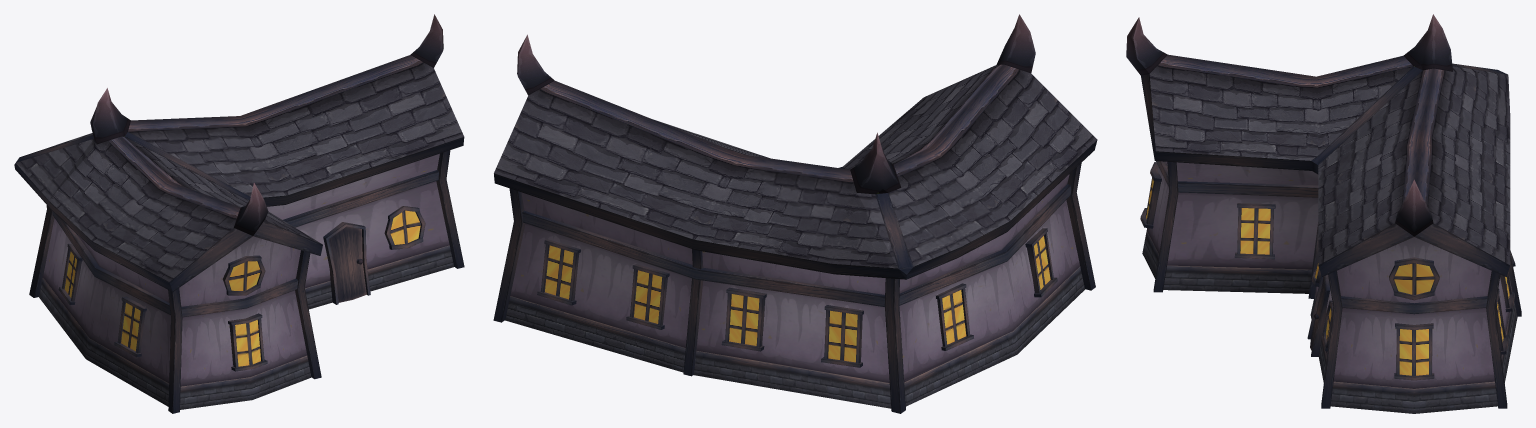
Rendered from Large_House_A.fbx.
The picture shows the model from 3 angles, left to right: view 1: azimuth 30°, elevation 25°; view 2: azimuth 150°, elevation 25°; view 3: azimuth 270°, elevation 25°; orthographic projection. The views are drawn at different scales.
Visible parts, largest first — view 1: Large_House_A; view 2: Large_House_A; view 3: Large_House_A.
Part boxes in pixels (x1,y1,x2,y2): Large_House_A: (14,14,464,413); Large_House_A: (493,14,1097,413); Large_House_A: (1126,14,1521,413).
Size of the model in its own units: 386 by 202 by 305.
1 material, 1 textured.
